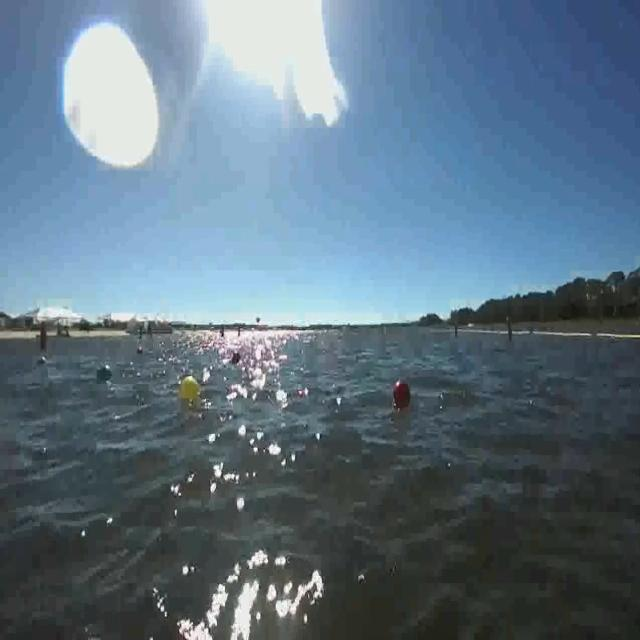red-buoy: (392, 382, 409, 403)
yellow-buoy: (182, 372, 202, 399)
